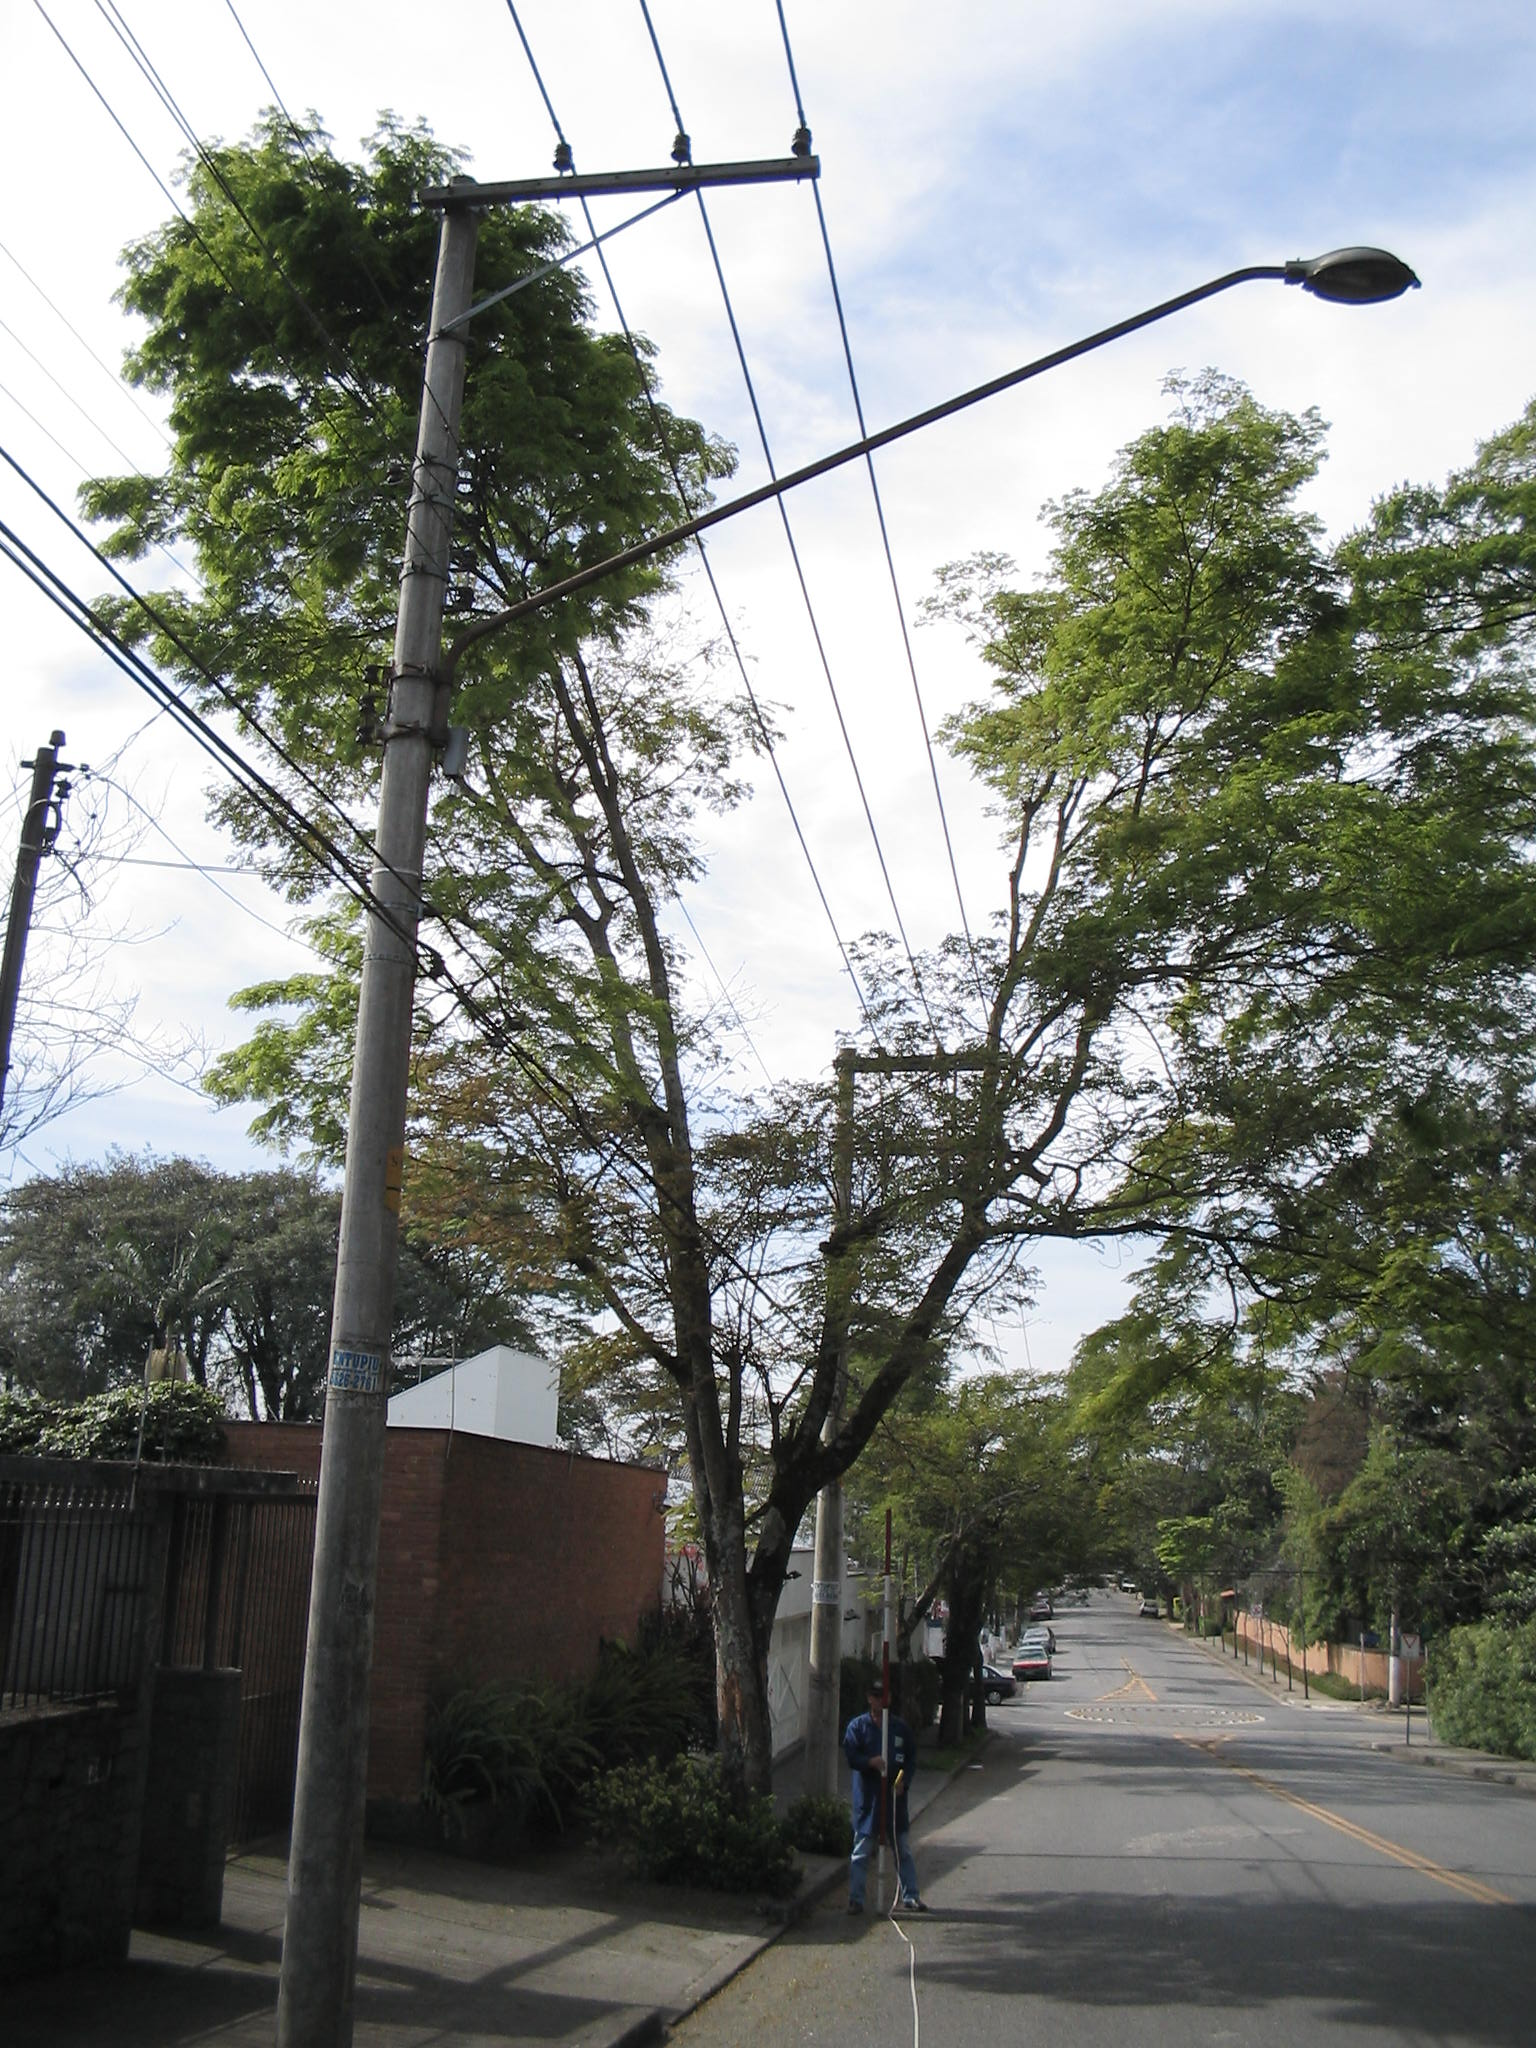crown: (77, 103, 1480, 1285)
stem: (634, 1646, 820, 1882)
stick: (860, 1501, 907, 1917)
tree: (74, 102, 1488, 1890)
